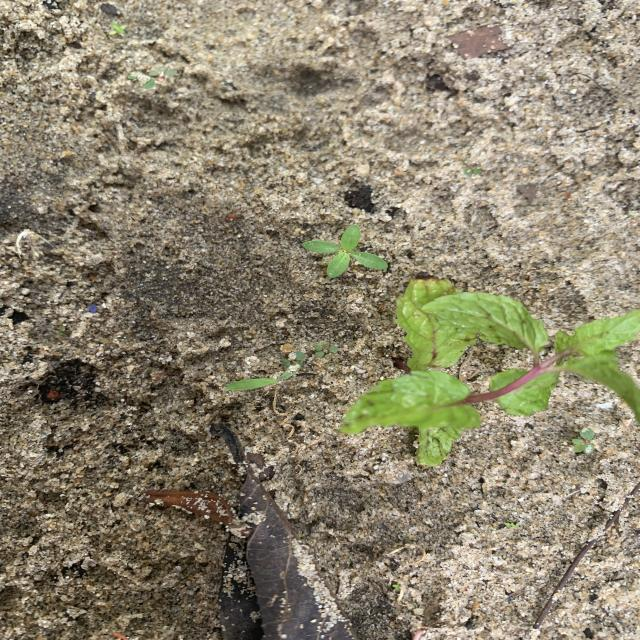crop: (340, 281, 639, 464)
weed: (303, 225, 387, 278), (127, 67, 175, 88), (280, 351, 305, 379), (226, 378, 275, 390), (572, 429, 594, 453), (313, 342, 338, 357), (110, 22, 124, 35), (504, 522, 518, 527)
